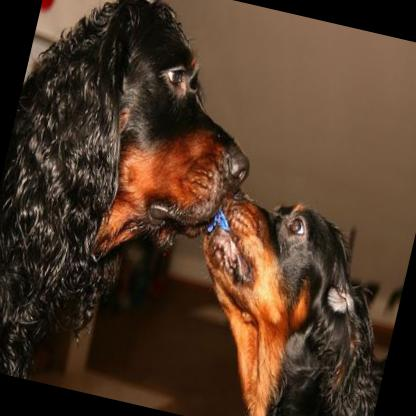Gordon_setter: (0, 0, 283, 415), (165, 181, 415, 416)
